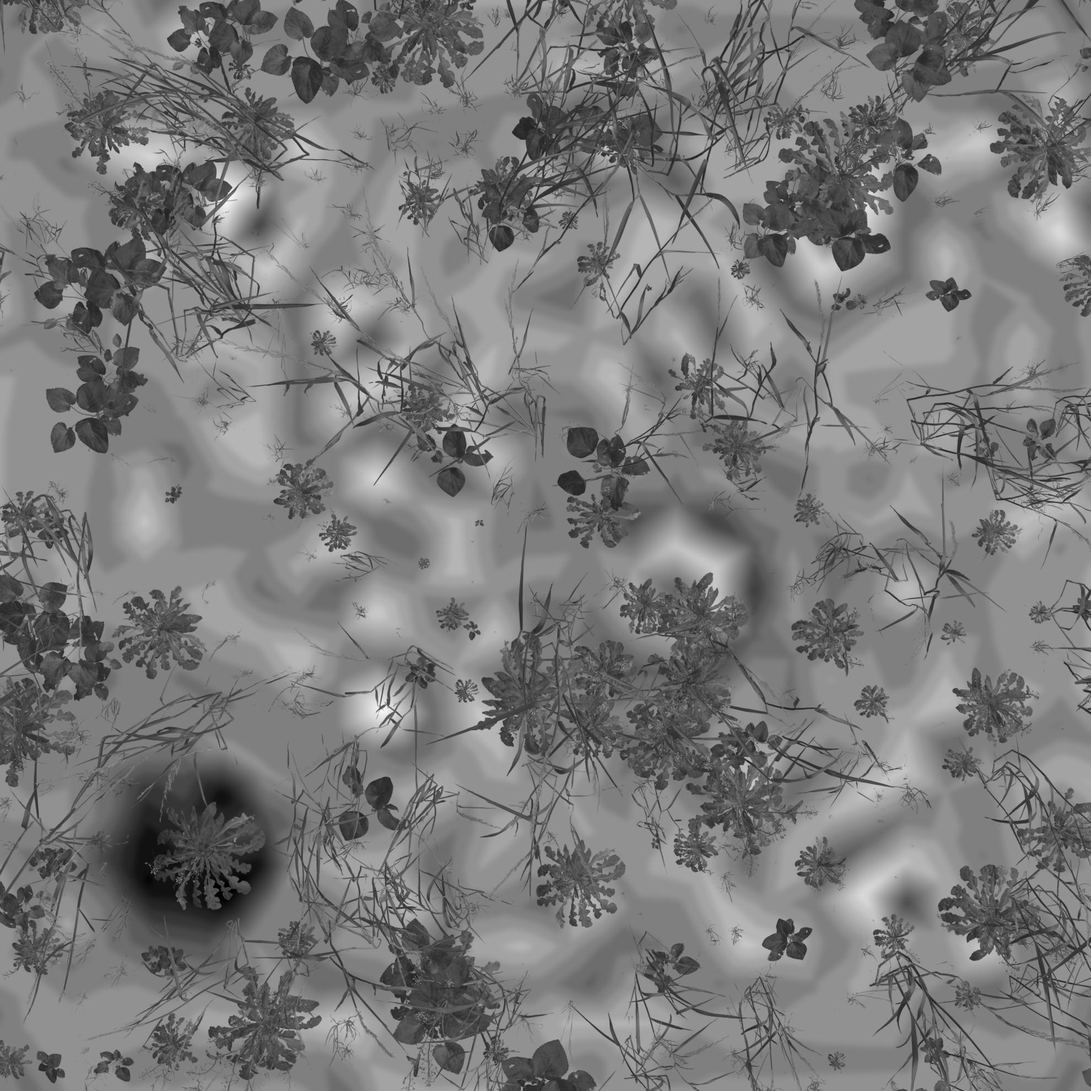landmine: (95, 763, 276, 938), (600, 511, 758, 658)
